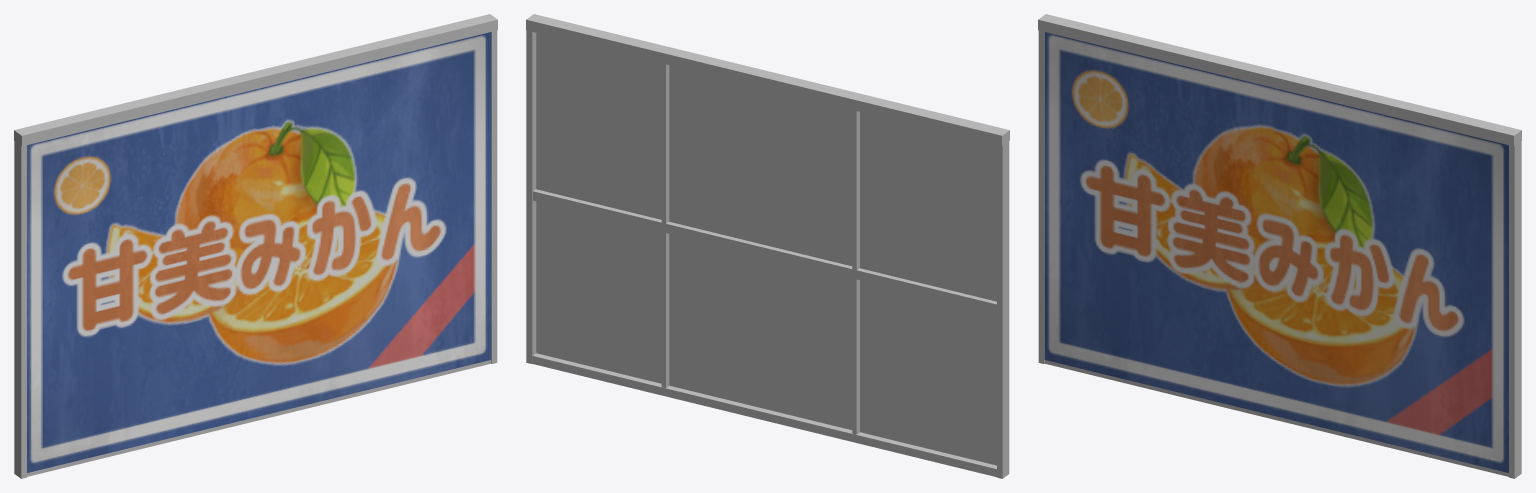
Rendered from signboard_3_12.fbx.
3 renders of one model, left to right at view 1: azimuth 30°, elevation 25°; view 2: azimuth 150°, elevation 25°; view 3: azimuth 330°, elevation 25°, orthographic.
Visible parts, largest first — view 1: signboard_3_12; view 2: signboard_3_12; view 3: signboard_3_12.
Boxes of the visible parts, left/top/right/bottom form: signboard_3_12: left=14, top=14, right=497, bottom=478; signboard_3_12: left=526, top=14, right=1009, bottom=478; signboard_3_12: left=1038, top=14, right=1521, bottom=478.
Bounding box in the file's own units: 2.07 × 1.43 × 0.0584.
